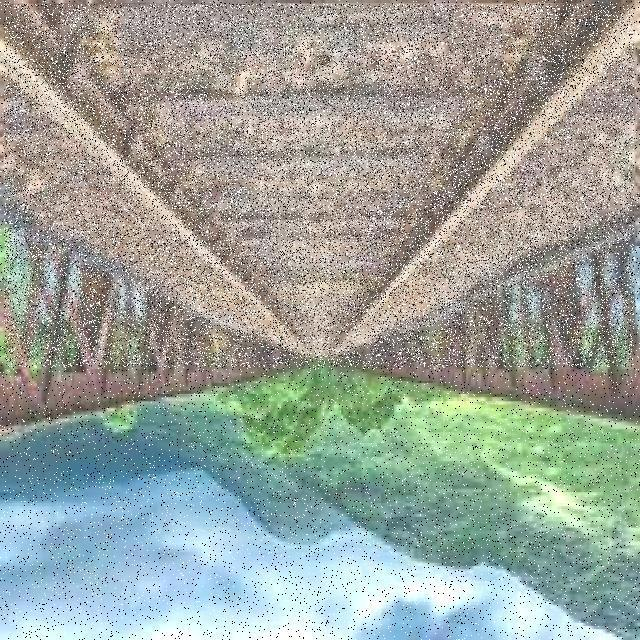rail: (4, 5, 634, 367)
